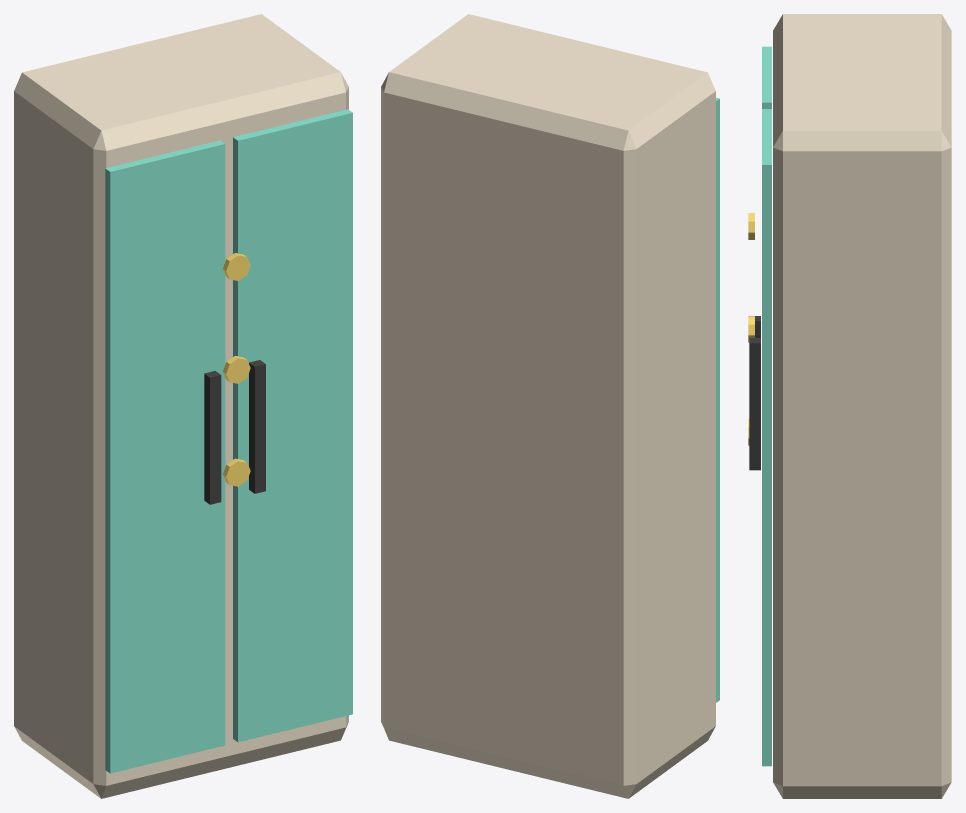
3 renders of one model, left to right at view 1: azimuth 30°, elevation 25°; view 2: azimuth 150°, elevation 25°; view 3: azimuth 270°, elevation 25°, orthographic.
Visible parts, largest first — view 1: Equipment case, Door, Door.001, Handle, Handle.001; view 2: Equipment case, Door; view 3: Equipment case, Door.001, Handle.001, Door.
Boxes of the visible parts, bbox=[...] form: Equipment case: bbox=[14, 14, 348, 798]; Door: bbox=[105, 140, 225, 773]; Door.001: bbox=[233, 109, 352, 742]; Handle: bbox=[204, 371, 221, 504]; Handle.001: bbox=[249, 360, 265, 493]; Equipment case: bbox=[381, 14, 715, 798]; Door: bbox=[716, 97, 719, 702]; Equipment case: bbox=[773, 14, 951, 798]; Door.001: bbox=[762, 109, 771, 766]; Handle.001: bbox=[749, 338, 760, 470]; Door: bbox=[762, 46, 771, 108].
Size of the model in its own units: 0.52 by 1.3 by 0.3585.
Materials: 1 (1 with a texture image).
